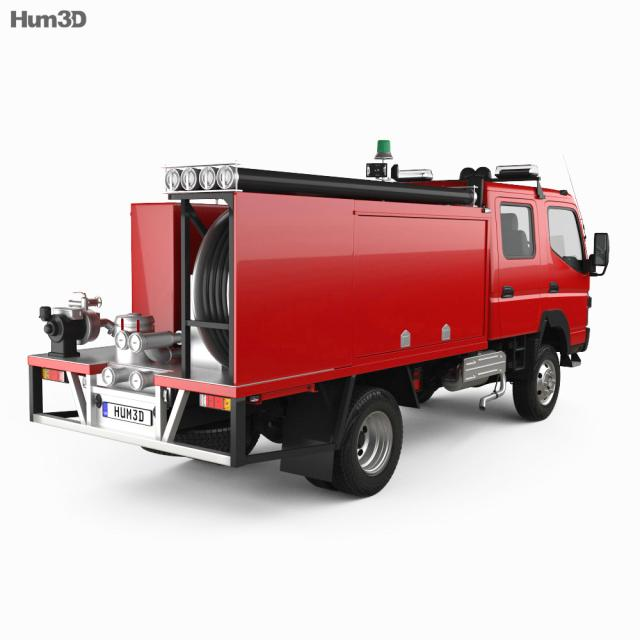truck: (28, 138, 609, 500)
